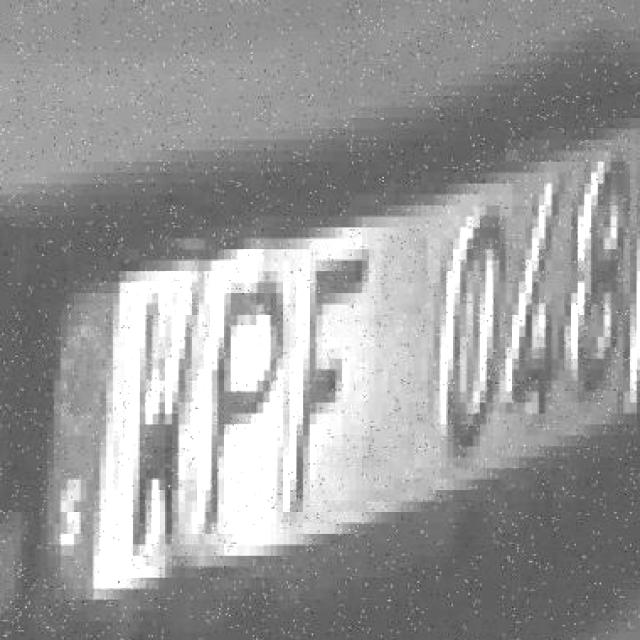licenseplate: (12, 105, 640, 639)
